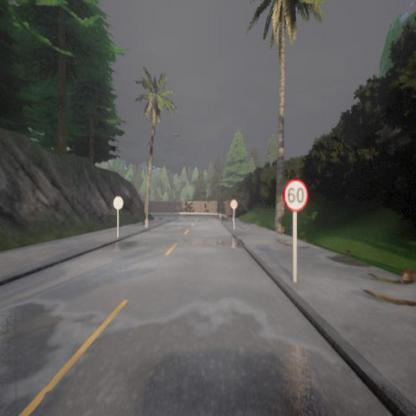traffic_sign_60: (284, 178, 308, 210)
